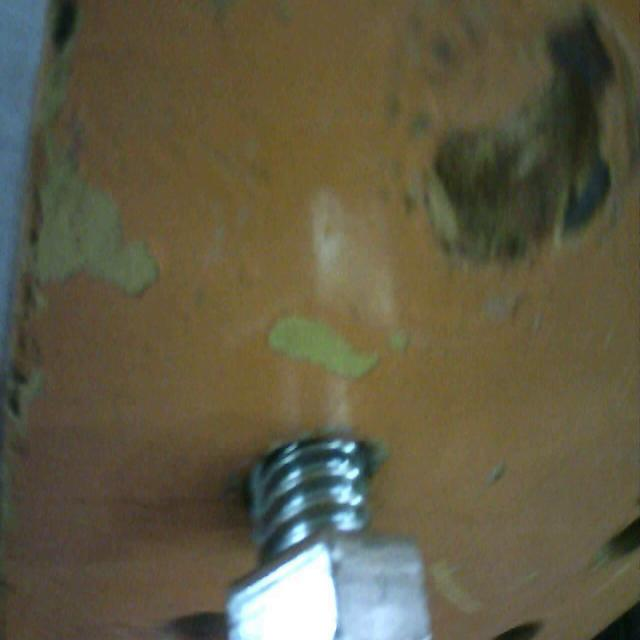Loose bolt: (227, 431, 435, 640)
Missing bolt: (423, 103, 612, 277), (592, 501, 640, 574), (499, 619, 541, 640)
Regular bolt: (225, 427, 440, 640)
